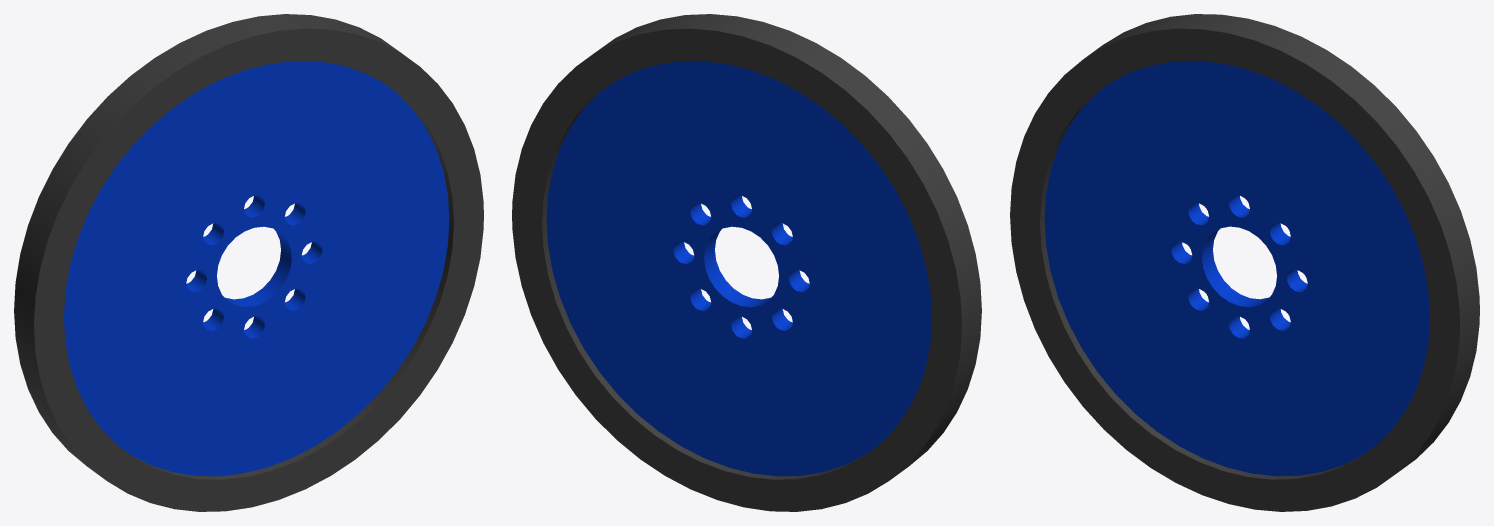
File: ROB-12334.obj
3 views of the same model, side by side, from view 1: azimuth 30°, elevation 25°; view 2: azimuth 150°, elevation 25°; view 3: azimuth 330°, elevation 25° (orthographic).
Visible parts, largest first — view 1: mesh 2 Boss-Extrude1, mesh 1 RO; view 2: mesh 2 Boss-Extrude1, mesh 1 RO; view 3: mesh 2 Boss-Extrude1, mesh 1 RO.
Part boxes in pixels (left/top/right/bottom): mesh 2 Boss-Extrude1: left=64, top=61, right=449, bottom=476; mesh 1 RO: left=14, top=14, right=483, bottom=511; mesh 2 Boss-Extrude1: left=546, top=61, right=931, bottom=476; mesh 1 RO: left=512, top=14, right=981, bottom=511; mesh 2 Boss-Extrude1: left=1044, top=61, right=1429, bottom=476; mesh 1 RO: left=1010, top=14, right=1479, bottom=511.
Bounding box in the file's own units: 0.0762 × 0.0762 × 0.00584.
